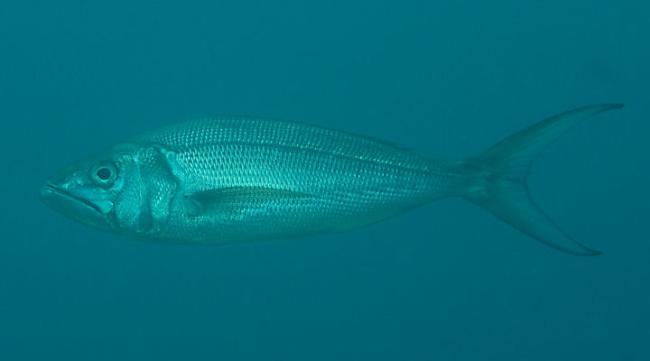fish: (41, 101, 624, 259)
